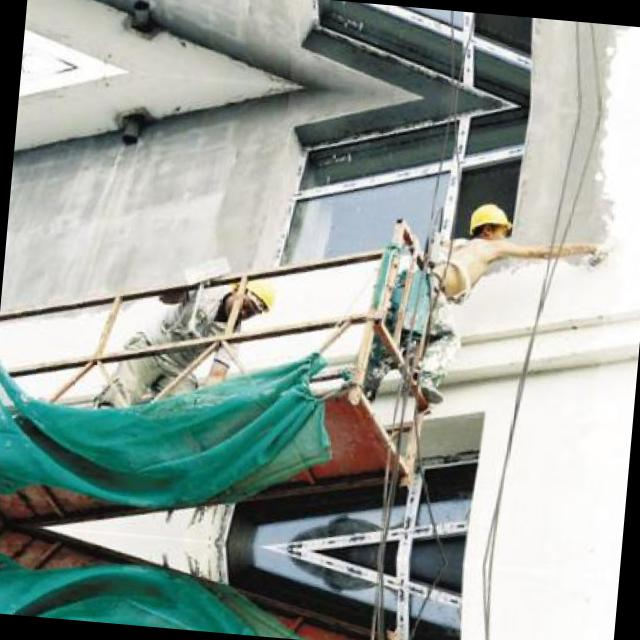helmet: (218, 270, 276, 326), (464, 200, 514, 253)
